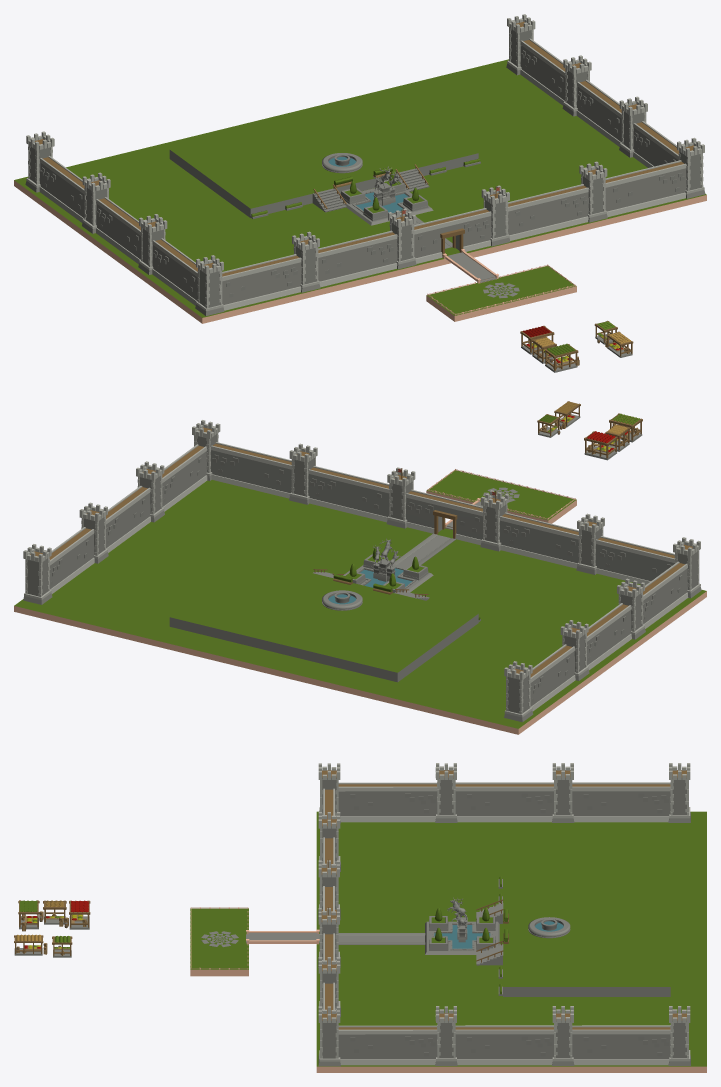
The model's file is PublicSquare.glb.
3 views of the same model, one above another, from view 1: azimuth 30°, elevation 25°; view 2: azimuth 150°, elevation 25°; view 3: azimuth 270°, elevation 25° (orthographic). The views are drawn at different scales.
Visible parts, largest first — view 1: cliff_block_rock.001, cliff_block_rock.002, WallTowers_Door_SecondAge, WallTowers_SecondAge.003, WallTowers_SecondAge.002, WallTowers_SecondAge, WallTowers_SecondAge.001, cliff_block_rock, WallTowers_SecondAge.006, WallTowers_SecondAge.008, WallTowers_SecondAge.009, WallTowers_SecondAge.004 (+5 smaller); view 2: cliff_block_rock.001, cliff_block_rock.002, WallTowers_Door_SecondAge, WallTowers_SecondAge, WallTowers_SecondAge.001, WallTowers_SecondAge.002, WallTowers_SecondAge.003, WallTowers_SecondAge.009, WallTowers_SecondAge.008, cliff_block_rock, WallTowers_SecondAge.004, WallTowers_SecondAge.005 (+5 smaller); view 3: cliff_block_rock.001, cliff_block_rock.002, WallTowers_SecondAge.007, WallTowers_SecondAge.004, WallTowers_SecondAge.005, WallTowers_SecondAge.006, WallTowers_SecondAge.008, WallTowers_SecondAge.009, cliff_block_rock, TownCenter_SecondAge_Level3, Market_SecondAge_Level3.003, WallTowers_Door_SecondAge (+6 smaller).
Part boxes in pixels (x1=…): cliff_block_rock.001: x1=14, y1=59, x2=706, y2=323; cliff_block_rock.002: x1=169, y1=94, x2=478, y2=218; WallTowers_Door_SecondAge: x1=388, y1=185, x2=510, y2=269; WallTowers_SecondAge.003: x1=195, y1=254, x2=301, y2=315; WallTowers_SecondAge.002: x1=605, y1=137, x2=705, y2=216; WallTowers_SecondAge: x1=508, y1=161, x2=607, y2=240; WallTowers_SecondAge.001: x1=292, y1=230, x2=397, y2=292; cliff_block_rock: x1=426, y1=266, x2=576, y2=321; WallTowers_SecondAge.006: x1=138, y1=214, x2=197, y2=305; WallTowers_SecondAge.008: x1=25, y1=131, x2=84, y2=222; WallTowers_SecondAge.009: x1=506, y1=14, x2=565, y2=105; WallTowers_SecondAge.004: x1=562, y1=55, x2=621, y2=146; cliff_block_rock.001: x1=14, y1=480, x2=706, y2=734; cliff_block_rock.002: x1=169, y1=558, x2=478, y2=682; WallTowers_Door_SecondAge: x1=386, y1=467, x2=509, y2=551; WallTowers_SecondAge: x1=289, y1=443, x2=389, y2=522; WallTowers_SecondAge.001: x1=499, y1=512, x2=604, y2=574; WallTowers_SecondAge.002: x1=192, y1=420, x2=291, y2=498; WallTowers_SecondAge.003: x1=595, y1=536, x2=701, y2=598; WallTowers_SecondAge.009: x1=23, y1=527, x2=94, y2=604; WallTowers_SecondAge.008: x1=504, y1=644, x2=575, y2=722; cliff_block_rock: x1=426, y1=470, x2=576, y2=523; WallTowers_SecondAge.004: x1=79, y1=486, x2=150, y2=563; WallTowers_SecondAge.005: x1=136, y1=444, x2=207, y2=522; cliff_block_rock.001: x1=316, y1=811, x2=706, y2=1072; cliff_block_rock.002: x1=503, y1=871, x2=670, y2=996; WallTowers_SecondAge.007: x1=455, y1=763, x2=574, y2=822; WallTowers_SecondAge.004: x1=455, y1=1006, x2=574, y2=1065; WallTowers_SecondAge.005: x1=338, y1=1006, x2=457, y2=1065; WallTowers_SecondAge.006: x1=338, y1=763, x2=457, y2=822; WallTowers_SecondAge.008: x1=572, y1=763, x2=690, y2=822; WallTowers_SecondAge.009: x1=572, y1=1006, x2=690, y2=1065; cliff_block_rock: x1=190, y1=908, x2=248, y2=976; TownCenter_SecondAge_Level3: x1=425, y1=897, x2=499, y2=954; Market_SecondAge_Level3.003: x1=18, y1=900, x2=90, y2=931; WallTowers_Door_SecondAge: x1=318, y1=859, x2=340, y2=967.
Size of the model in its own units: 320 by 36.38 by 367.
